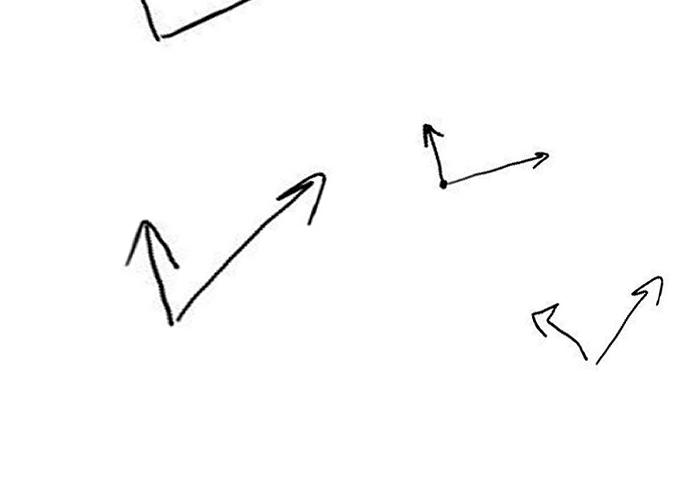arrow: (179, 169, 327, 322), (126, 213, 180, 325), (596, 275, 664, 362), (530, 303, 587, 361), (452, 148, 551, 178), (419, 119, 447, 176)
arrownohead: (163, 1, 251, 35), (141, 1, 163, 41)
